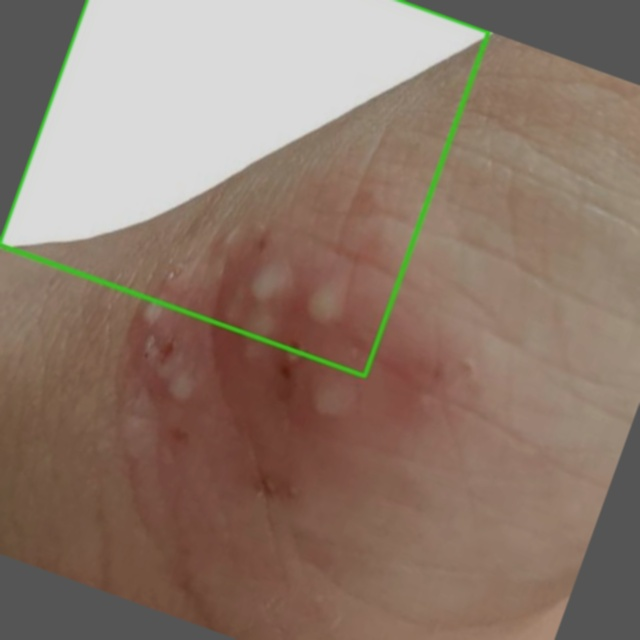Scabies: (0, 0, 488, 375)
